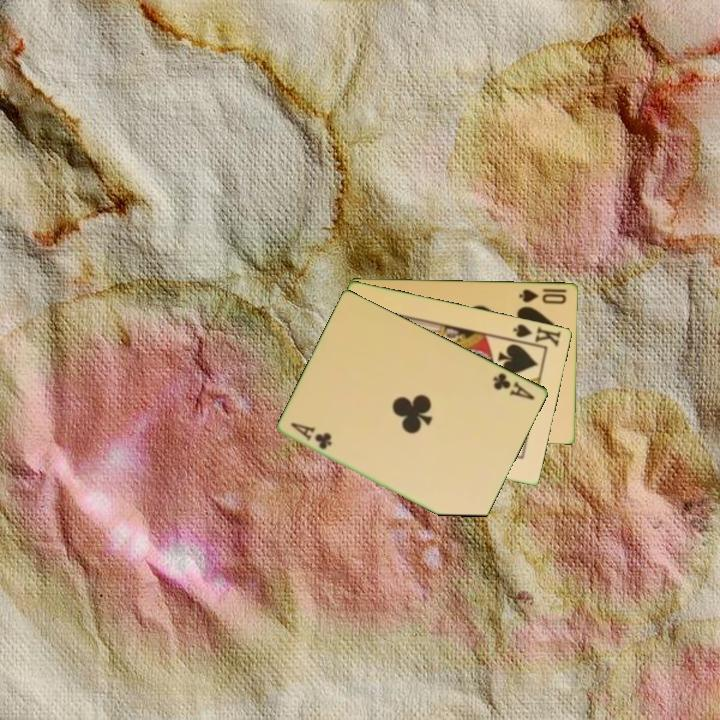10s: (516, 285, 570, 307)
Ac: (490, 369, 538, 403), (287, 419, 335, 452)
Ks: (507, 320, 564, 350)
